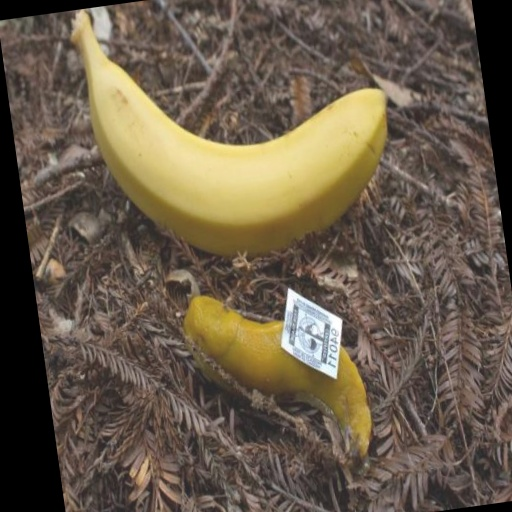fruit: (71, 10, 386, 256), (183, 297, 371, 464)
